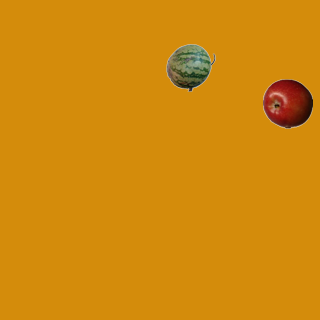Apple Braeburn: (262, 78, 312, 128)
Watermelon: (165, 42, 215, 92)
